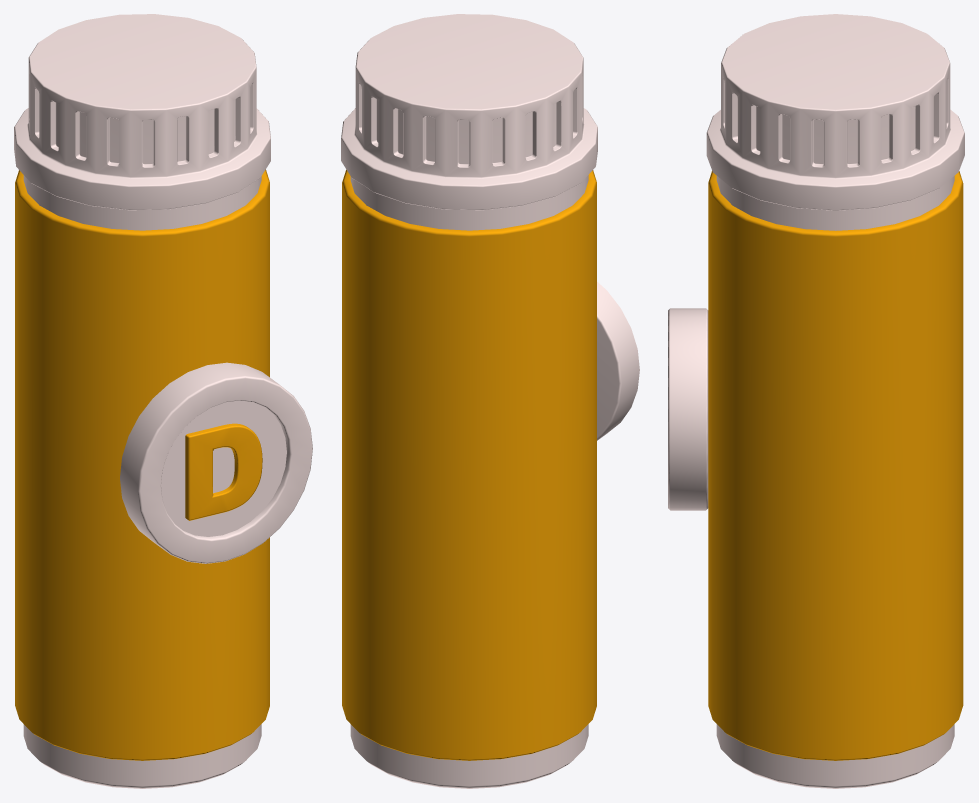
Rendered from Store_15_Bottle_of_Vitamin_D_1.glb.
The picture shows the model from 3 angles, left to right: view 1: azimuth 30°, elevation 25°; view 2: azimuth 150°, elevation 25°; view 3: azimuth 270°, elevation 25°; orthographic projection.
Parts seen in each view (by area): view 1: Store_15_Bottle_of_Vitamin_D_1; view 2: Store_15_Bottle_of_Vitamin_D_1; view 3: Store_15_Bottle_of_Vitamin_D_1.
Boxes of the visible parts, x1,y1,x2,y2 form: Store_15_Bottle_of_Vitamin_D_1: (14,14,312,788); Store_15_Bottle_of_Vitamin_D_1: (341,14,639,788); Store_15_Bottle_of_Vitamin_D_1: (668,14,964,788).
Size of the model in its own units: 1.07 by 3.11 by 1.23.
Materials: 1 (1 with a texture image).
